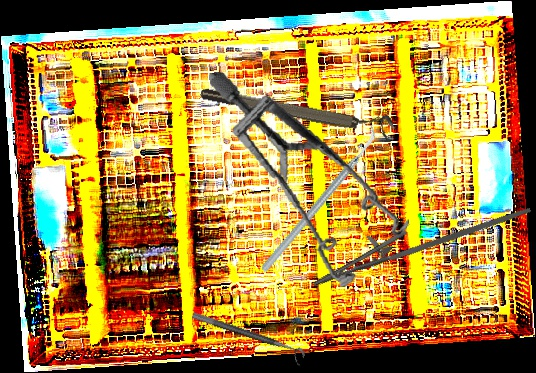Chopper: (226, 123, 412, 274)
Fixation Ring: (198, 76, 398, 143), (188, 311, 307, 367)
Needle Holder: (305, 165, 532, 313)
Speculum: (208, 46, 418, 303)
